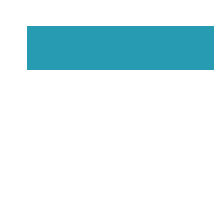rectangle: (27, 26, 213, 69)
